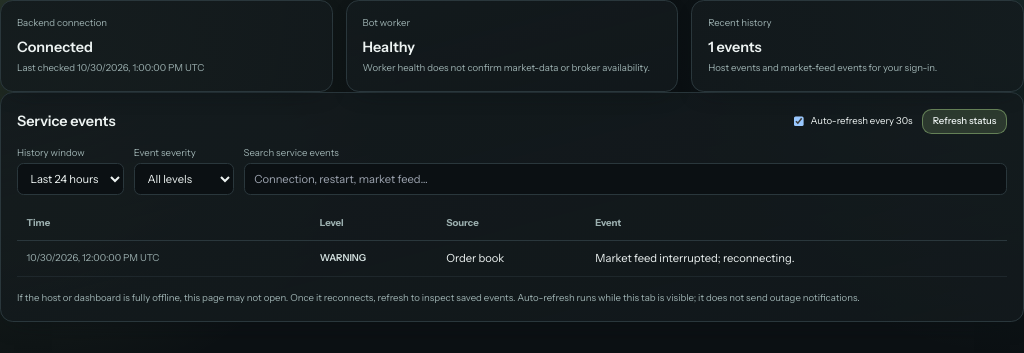
service logs › clears private history after an authentication failure
The image size is (1024, 353).
Expected: the text "Healthy" is shown, [363,38,415,56]
Step 1. Click the button "Refresh status" → click(965, 121), box [922,109,1007,134]
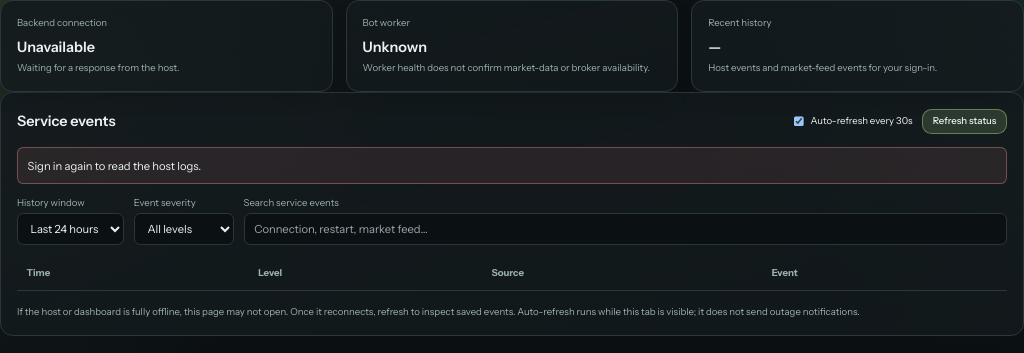
Expected: the text "Sign in again to read the host logs." is shown, [17,147,1007,184]
Expected: the text "Market feed interrupted; reconnecting." is gone
